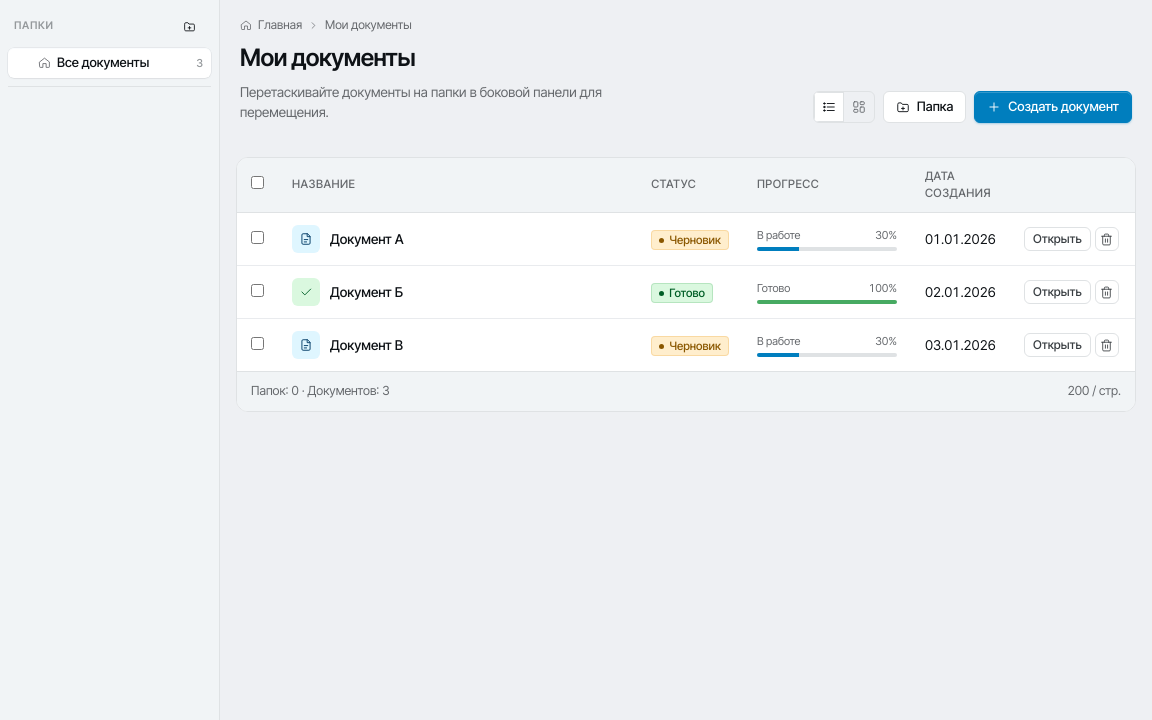
DocumentsPage bulk actions (BUG-049) › bulk delete: a failing id does not abort the rest, prunes only succeeded ids and still reloads
Expected: the text "Документ В" is shown, [330,335,403,355]
Note: checkboxes[0] is the table header "select all"
Click the checkbox named "Выбрать все документы" at (258, 182), box [251,176,264,189]
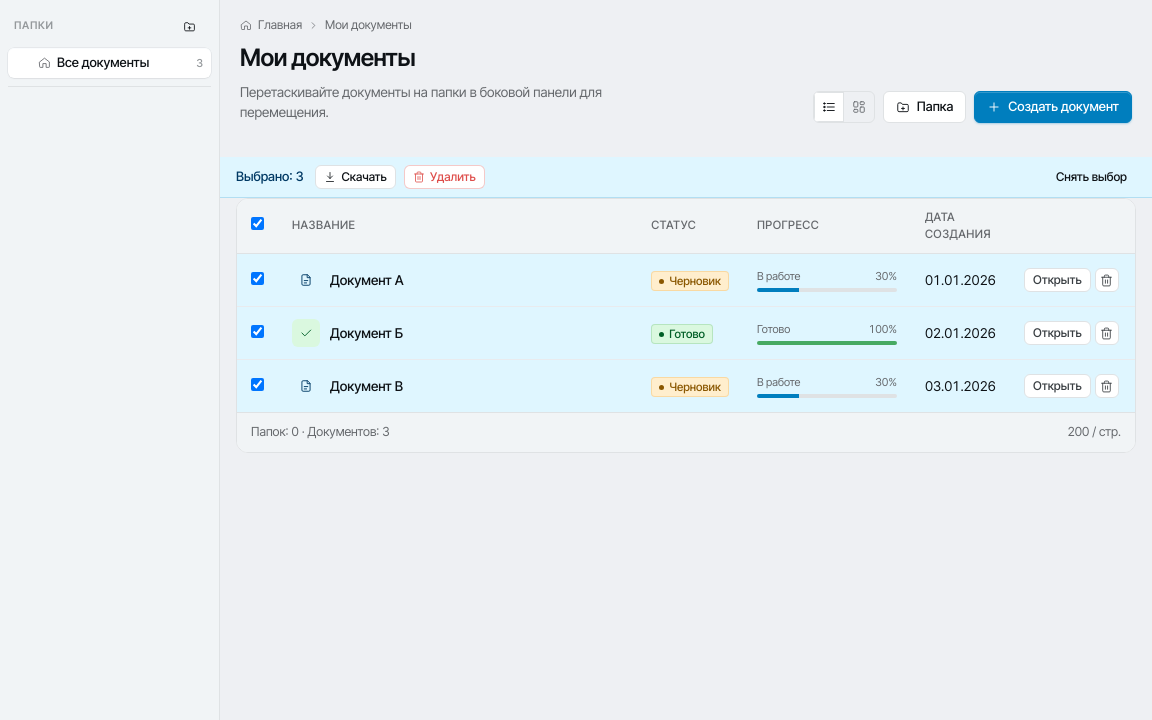
Result: the text "Выбрано: 3" is shown at [236,167,304,186]
Click the button "Удалить" at (444, 176), box [404,164,485,188]
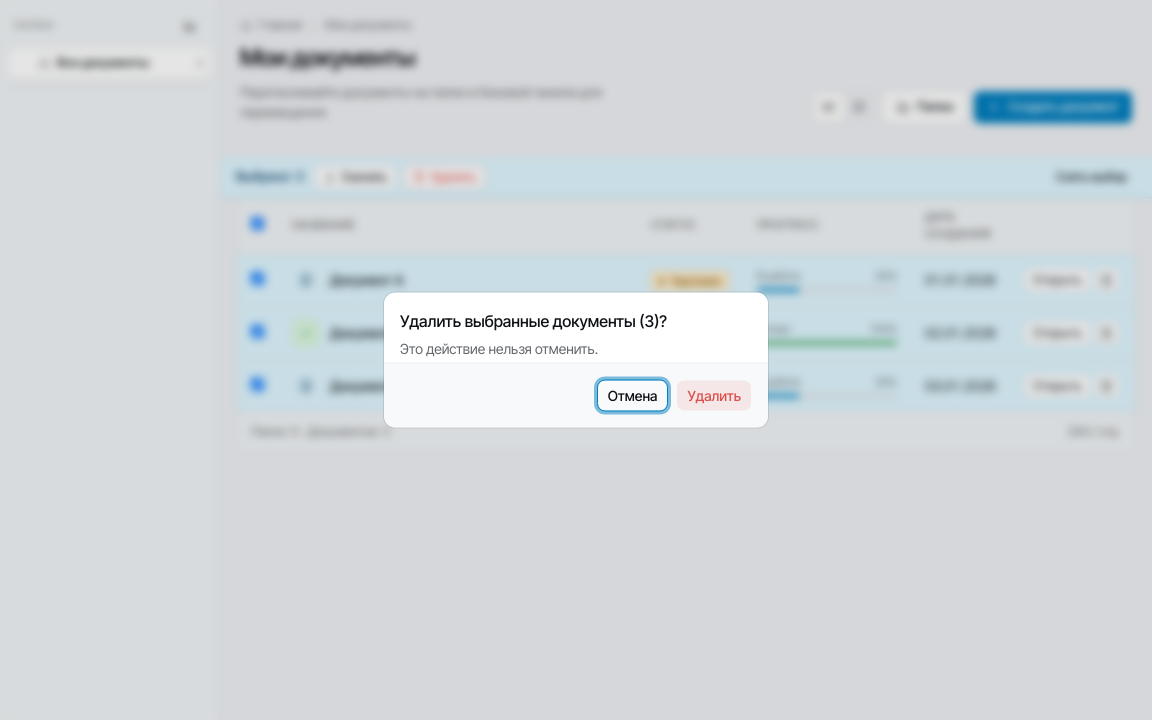
Click the button "Удалить" at (714, 396), box [676,380,752,412]
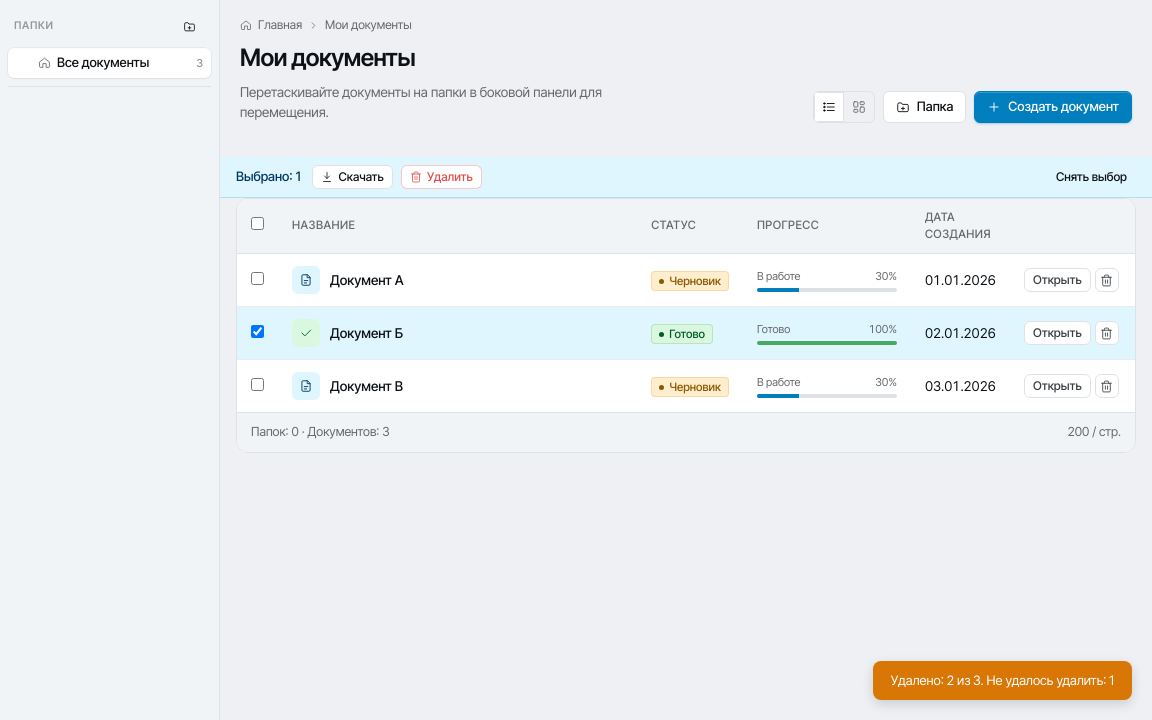
Result: the text "Выбрано: 1" is shown at [236,167,300,186]
Result: the dialog is gone
Result: the text "Удалено: 2 из 3. Не удалось удалить: 1" is shown at [873,660,1132,700]
